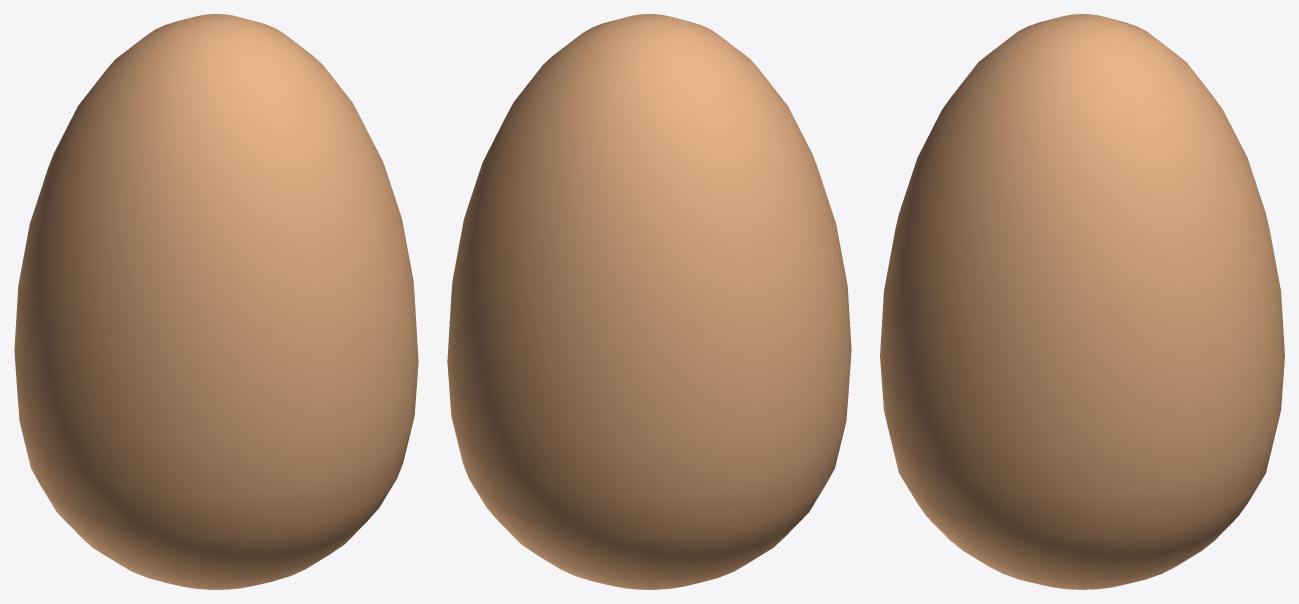
File: oeuf_oiseau_data_design.gltf
The picture shows the model from 3 angles, left to right: view 1: azimuth 30°, elevation 25°; view 2: azimuth 150°, elevation 25°; view 3: azimuth 270°, elevation 25°; orthographic projection.
Visible parts, largest first — view 1: Sphère; view 2: Sphère; view 3: Sphère.
Boxes of the visible parts, x1=… form: Sphère: x1=14, y1=14, x2=418, y2=589; Sphère: x1=447, y1=14, x2=851, y2=589; Sphère: x1=880, y1=14, x2=1284, y2=589.
Size of the model in its own units: 2 by 2.98 by 2.
